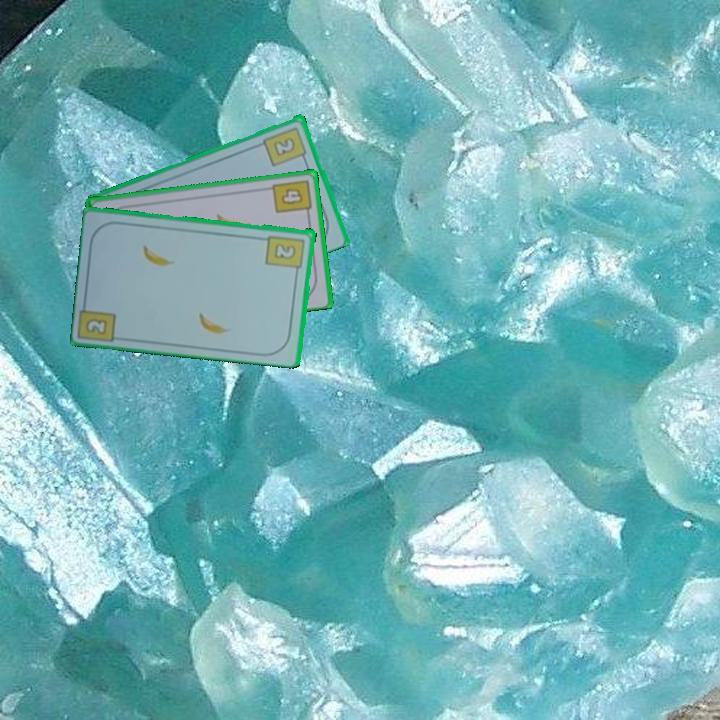2b: (260, 123, 310, 169), (263, 231, 308, 277), (82, 315, 110, 337)
4b: (269, 176, 314, 219)
